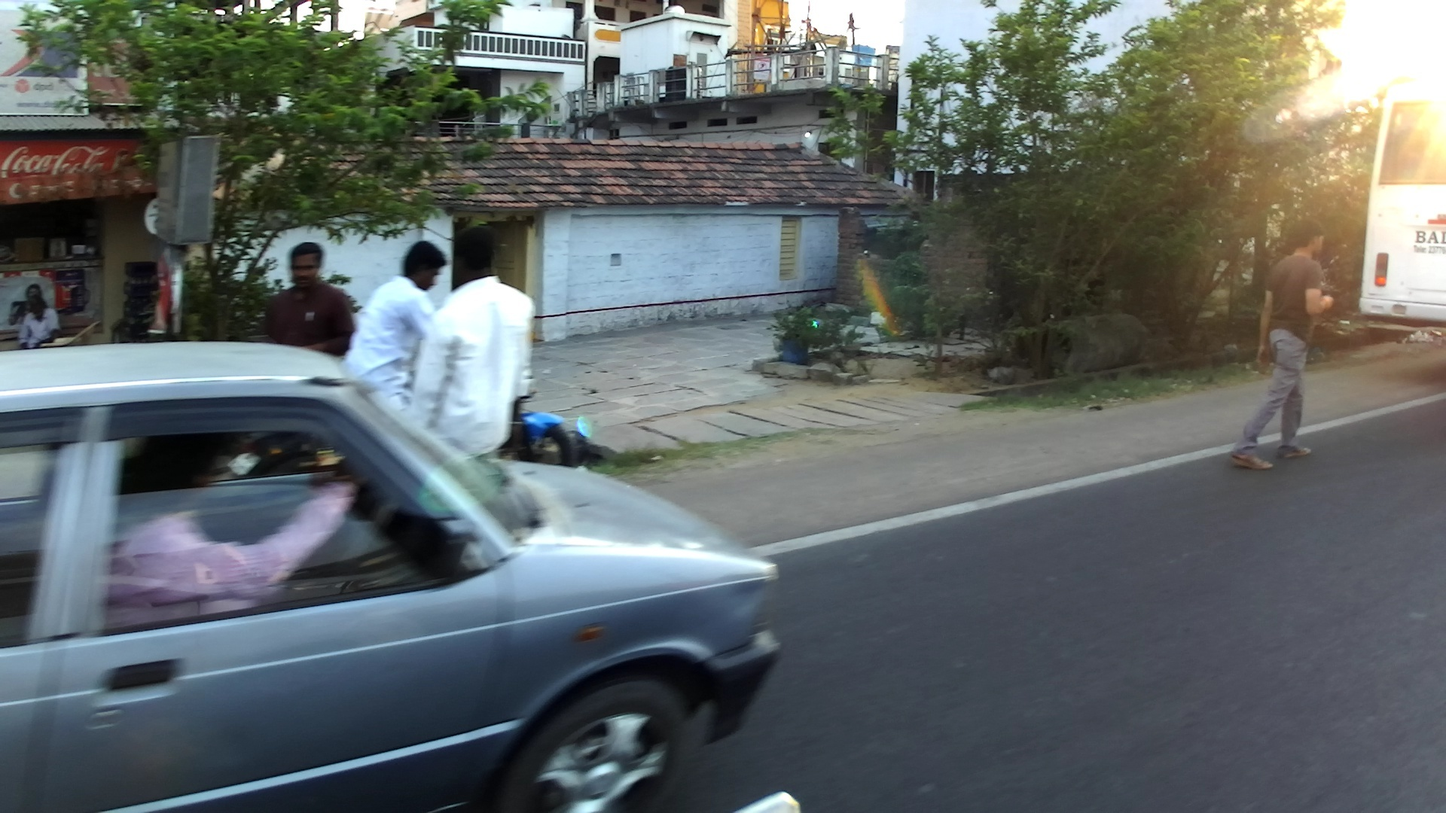bus: (1362, 88, 1446, 335)
car: (2, 343, 787, 811), (517, 383, 579, 467)
person: (407, 229, 536, 470), (1229, 220, 1338, 470), (261, 233, 357, 358), (16, 294, 60, 354)
rider: (345, 235, 448, 410)
